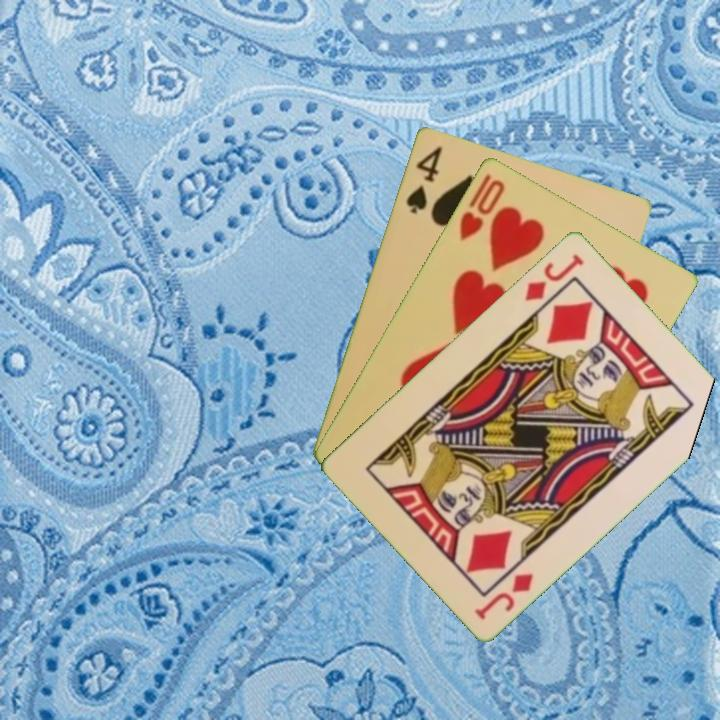10h: (455, 169, 508, 244)
4s: (402, 142, 445, 216)
Jd: (521, 249, 587, 304), (471, 568, 537, 622)
